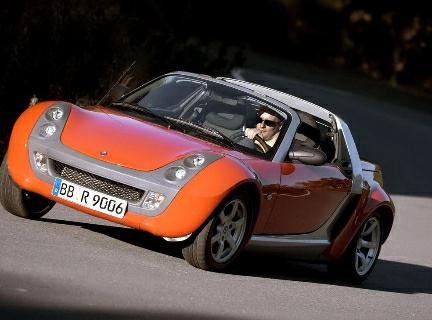smart-roadster: (10, 85, 397, 277)
